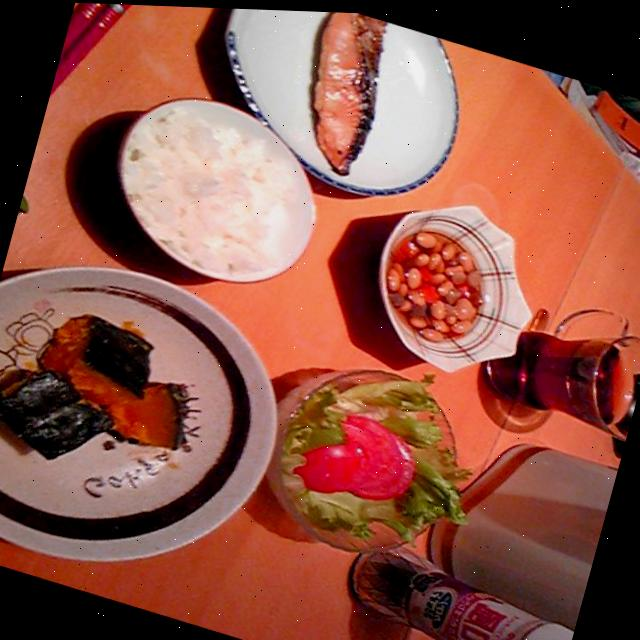米饭主食: (72, 56, 356, 310)
